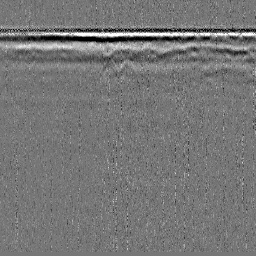cavity: (118, 58, 137, 75)
